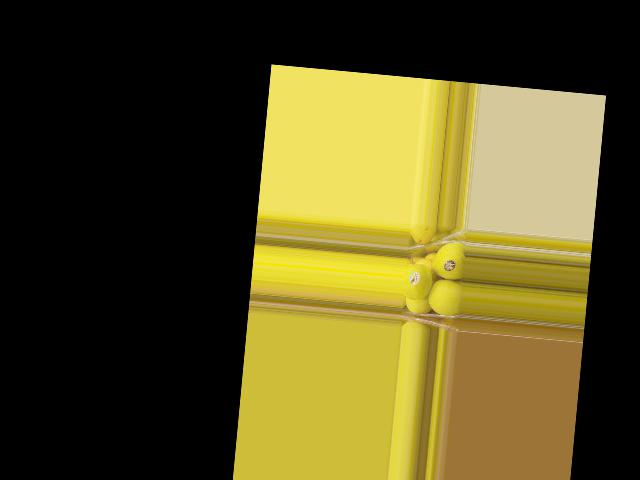apple: (403, 259, 433, 302)
